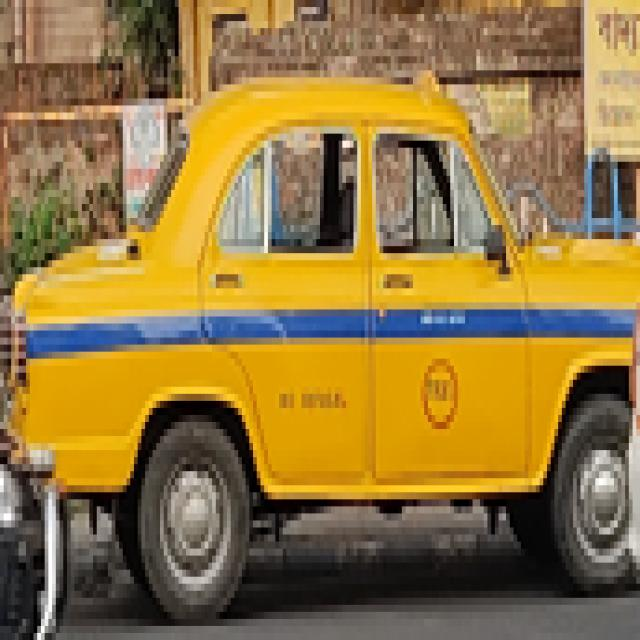ambasador_taxi: (32, 51, 638, 598)
